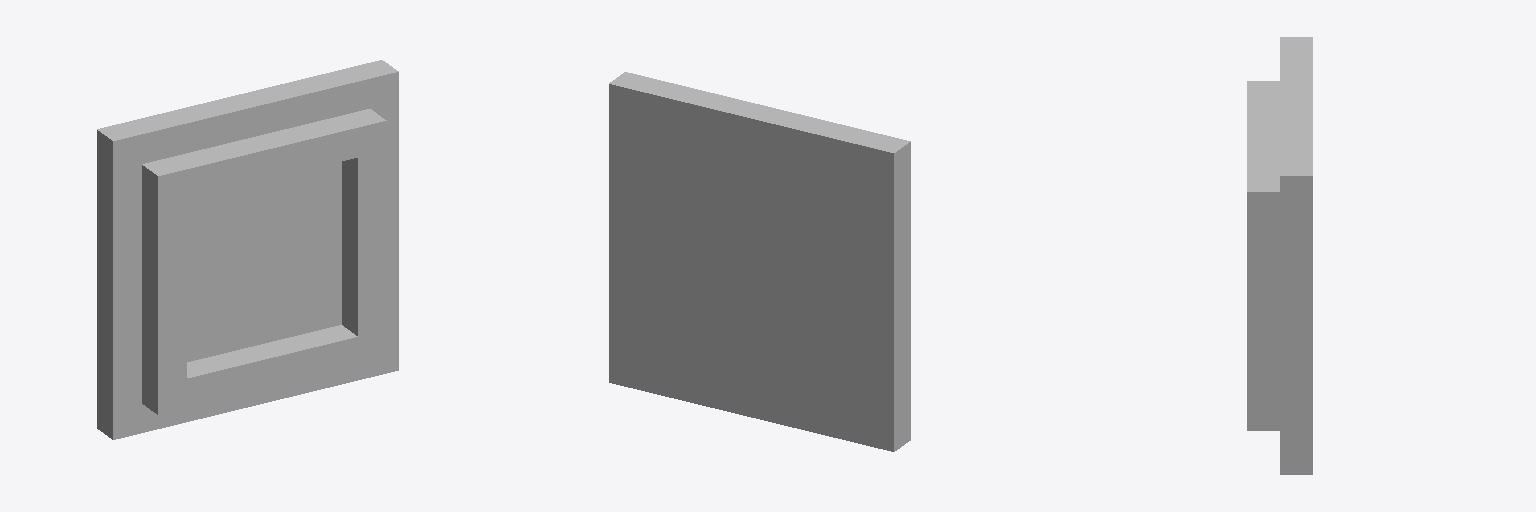
File: switch.obj
The picture shows the model from 3 angles: view 1: azimuth 30°, elevation 25°; view 2: azimuth 150°, elevation 25°; view 3: azimuth 270°, elevation 25°; orthographic projection.
Parts seen in each view (by area): view 1: object 1; view 2: object 1; view 3: object 1.
Boxes of the visible parts, <box> form: object 1: <box>97,60,398,439</box>; object 1: <box>609,72,910,451</box>; object 1: <box>1247,37,1312,474</box>.
Size of the model in its own units: 1 by 1 by 0.2.